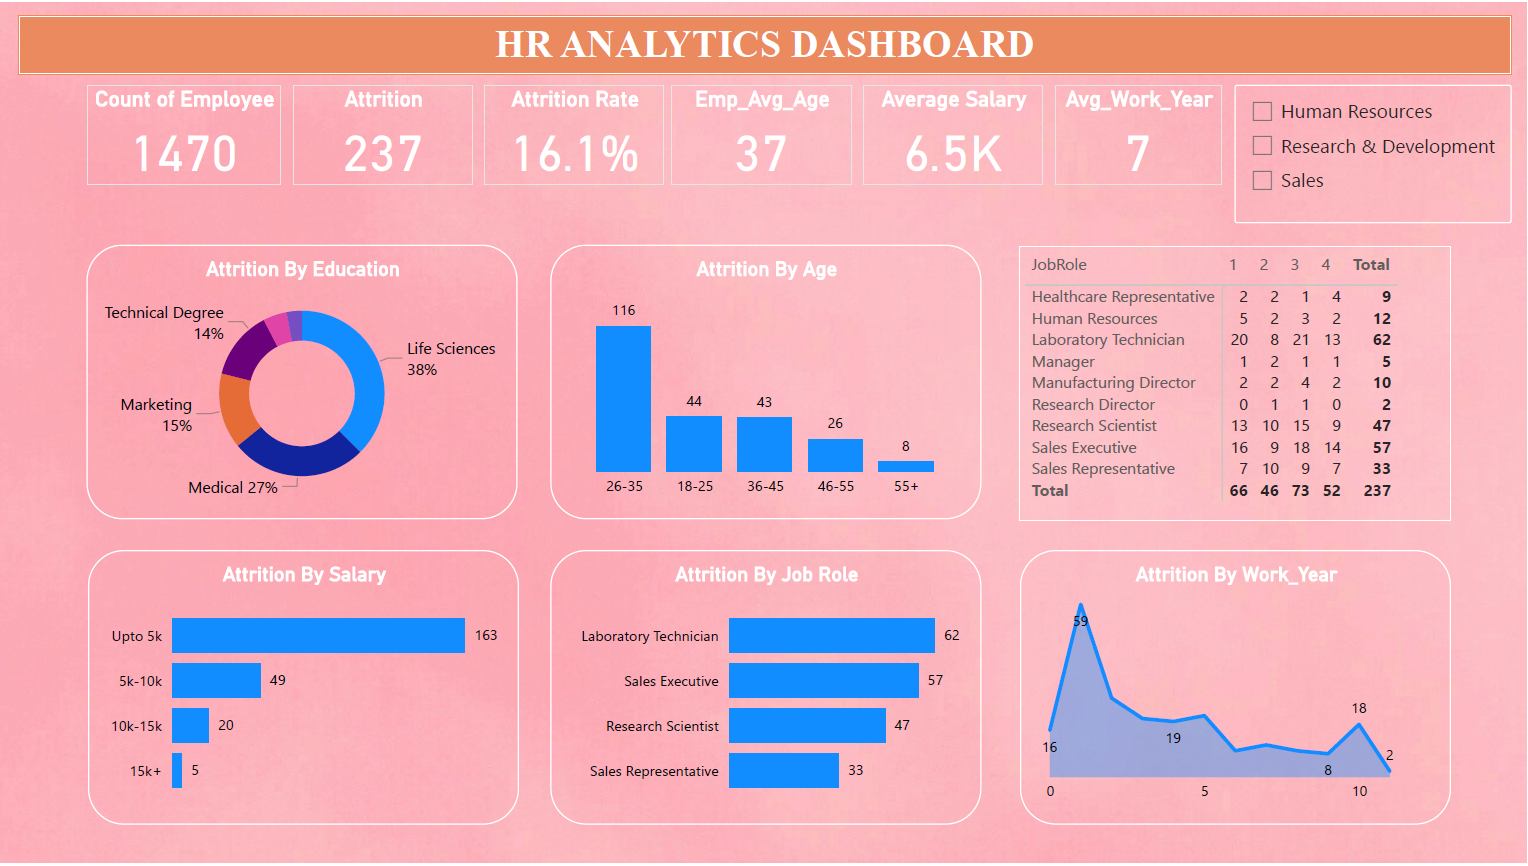

What the dashboard file says about the page in this screenshot:
{"tool":"powerbi","page":{"name":"Page 1","canvas":[1280,720],"ordinal":0},"visuals":[{"type":"card","title":"Count of Employee","fields":{"Values":["CountNonNull(HR_Analytics.EmpID)"]},"box":[73.6,68.8,162.9,84.5],"z":0},{"type":"card","title":"Attrition","fields":{"Values":["Sum(HR_Analytics.AttritionCount)"]},"box":[246.1,68.8,150.8,84.5],"z":1000},{"type":"card","title":"Attrition Rate","fields":{"Values":["HR_Analytics.AttritionRate"]},"box":[406.6,68.8,150.8,84.5],"z":2000},{"type":"card","title":"Emp_Avg_Age","fields":{"Values":["Avg(HR_Analytics.Age)"]},"box":[563.4,68.8,150.8,84.5],"z":3000},{"type":"card","title":"Average Salary","fields":{"Values":["Avg(HR_Analytics.MonthlyIncome)"]},"box":[723.9,68.8,150.8,84.5],"z":4000},{"type":"card","title":"Avg_Work_Year","fields":{"Values":["Avg(HR_Analytics.YearsAtCompany)"]},"box":[884.3,68.8,139.9,84.5],"z":5000},{"type":"donutChart","title":"Attrition By Education","fields":{"Category":["HR_Analytics.EducationField"],"Y":["Sum(HR_Analytics.AttritionCount)"]},"box":[73.6,202.7,360.7,230.4],"z":6000},{"type":"columnChart","title":"Attrition By Age","fields":{"Category":["HR_Analytics.AgeGroup"],"Y":["Sum(HR_Analytics.AttritionCount)"]},"box":[462.1,202.7,360.7,230.4],"z":7000},{"type":"pivotTable","fields":{"Rows":["HR_Analytics.JobRole"],"Columns":["HR_Analytics.JobSatisfaction"],"Values":["Sum(HR_Analytics.AttritionCount)"]},"box":[854.2,203.9,361.9,230.4],"z":8000},{"type":"barChart","title":"Attrition By Salary","fields":{"Category":["HR_Analytics.SalarySlab"],"Y":["Sum(HR_Analytics.AttritionCount)"]},"box":[74.8,458.4,360.7,230.4],"z":9000},{"type":"barChart","title":"Attrition By Job Role","fields":{"Category":["HR_Analytics.JobRole"],"Y":["Sum(HR_Analytics.AttritionCount)"]},"box":[462.1,458.4,360.7,230.4],"z":10000},{"type":"areaChart","title":"Attrition By Work_Year","fields":{"Category":["HR_Analytics.YearsAtCompany"],"Y":["Sum(HR_Analytics.AttritionCount)"]},"box":[855.4,458.4,360.7,230.4],"z":11000},{"type":"slicer","fields":{"Values":["HR_Analytics.Department"]},"box":[1035.1,68.8,231.6,115.8],"z":12000},{"type":"textbox","box":[16.9,10.9,1249.9,49.5],"z":12001}]}

Visuals, with their boxes in screenshot pixels (x1, y1, x2, y2), scaled from the page's 1280x720 canvas onto the 1528x866 screenshot:
"Count of Employee" card: locate(88, 83, 282, 184)
"Attrition" card: locate(294, 83, 474, 184)
"Attrition Rate" card: locate(485, 83, 665, 184)
"Emp_Avg_Age" card: locate(673, 83, 853, 184)
"Average Salary" card: locate(864, 83, 1044, 184)
"Avg_Work_Year" card: locate(1056, 83, 1223, 184)
"Attrition By Education" donutChart: locate(88, 244, 518, 521)
"Attrition By Age" columnChart: locate(552, 244, 982, 521)
pivotTable - HR_Analytics.JobRole x HR_Analytics.JobSatisfaction: locate(1020, 245, 1452, 522)
"Attrition By Salary" barChart: locate(89, 551, 520, 828)
"Attrition By Job Role" barChart: locate(552, 551, 982, 828)
"Attrition By Work_Year" areaChart: locate(1021, 551, 1452, 828)
slicer - HR_Analytics.Department: locate(1236, 83, 1512, 222)
textbox: locate(20, 13, 1512, 73)
